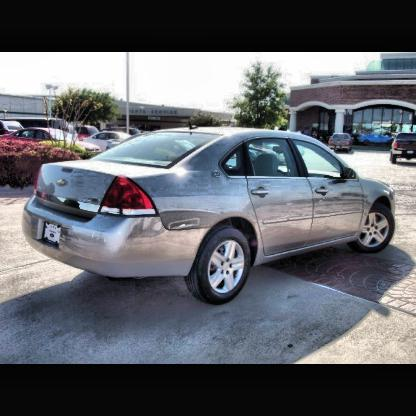Chevrolet Impala Sedan 2007: (23, 123, 403, 306)
